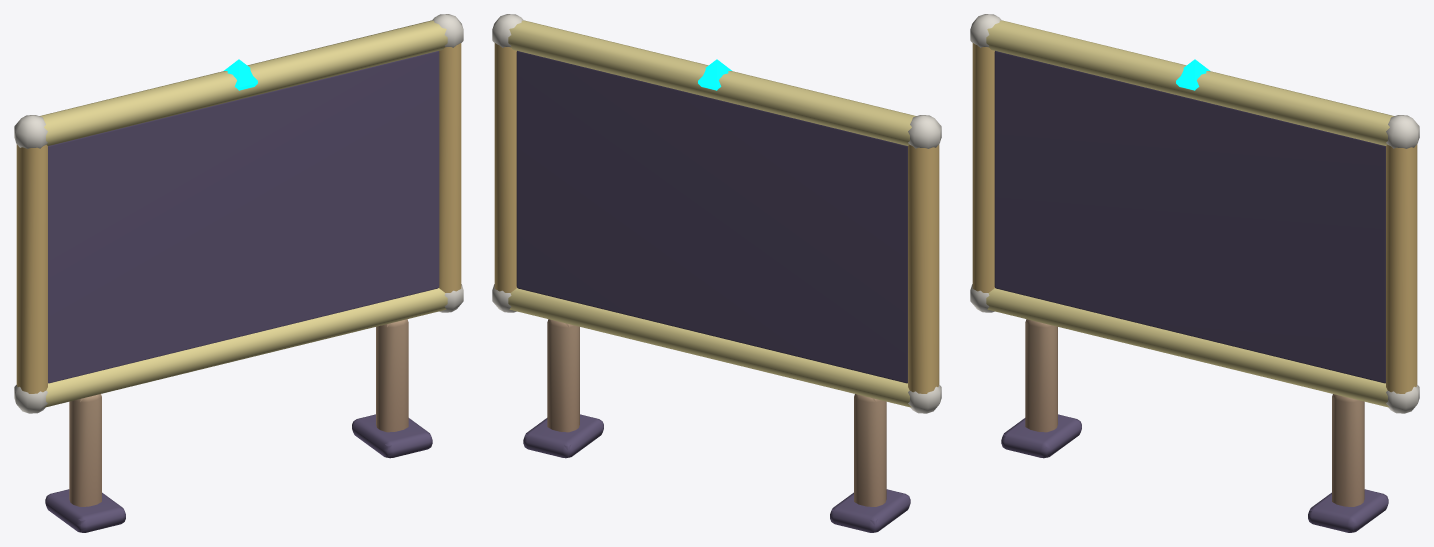
File: leaderboard.glb
3 views of the same model, side by side, from view 1: azimuth 30°, elevation 25°; view 2: azimuth 150°, elevation 25°; view 3: azimuth 330°, elevation 25° (orthographic).
Parts seen in each view (by area): view 1: Body, Glow_00E5FF; view 2: Body, Glow_00E5FF; view 3: Body, Glow_00E5FF.
Part boxes in pixels (<box>): Body: <box>14,14,463,532</box>; Glow_00E5FF: <box>224,59,257,90</box>; Body: <box>492,14,941,532</box>; Glow_00E5FF: <box>698,59,731,90</box>; Body: <box>970,14,1419,532</box>; Glow_00E5FF: <box>1176,59,1209,90</box>.
Bounding box in the file's own units: 16.28 × 14.7 × 2.4.
